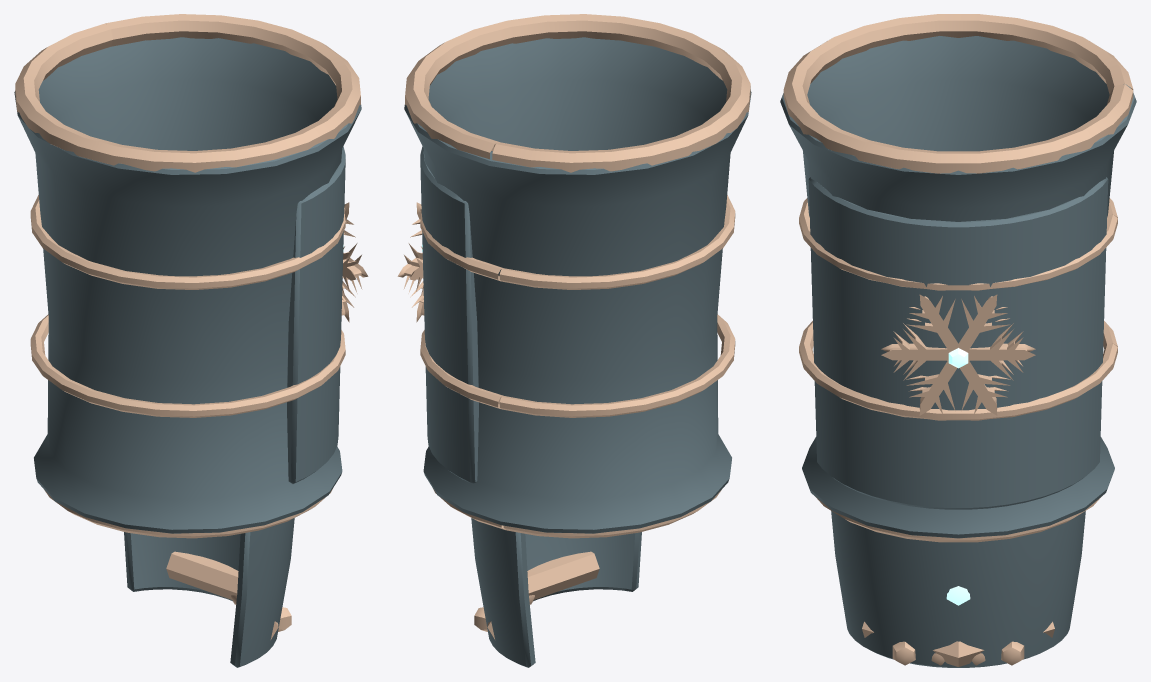
Rendered from asc_everlasting_bulwark_gloves.glb.
3 renders of one model, left to right at view 1: azimuth 30°, elevation 25°; view 2: azimuth 150°, elevation 25°; view 3: azimuth 270°, elevation 25°, orthographic.
Parts seen in each view (by area): view 1: asc_everlasting_bulwark_gloves, AT_hand_L; view 2: asc_everlasting_bulwark_gloves, AT_hand_L; view 3: asc_everlasting_bulwark_gloves, AT_hand_L.
Boxes of the visible parts, bbox=[...] form: asc_everlasting_bulwark_gloves: bbox=[14, 14, 368, 538]; AT_hand_L: bbox=[124, 518, 294, 667]; asc_everlasting_bulwark_gloves: bbox=[397, 14, 751, 538]; AT_hand_L: bbox=[471, 518, 641, 667]; asc_everlasting_bulwark_gloves: bbox=[780, 14, 1136, 542]; AT_hand_L: bbox=[831, 511, 1085, 667].
Bounding box in the file's own units: 0.1996 × 0.3408 × 0.2004.
